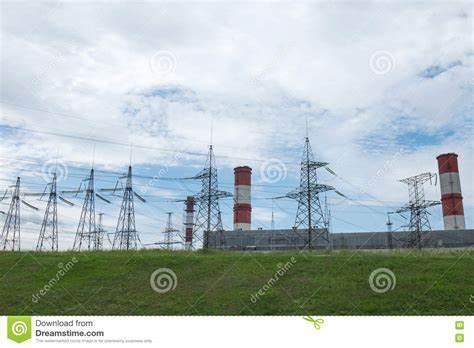power_tower: (281, 123, 334, 251), (177, 139, 237, 247), (389, 170, 444, 254), (110, 160, 145, 252), (34, 162, 65, 250), (70, 165, 102, 250), (0, 171, 32, 249)
